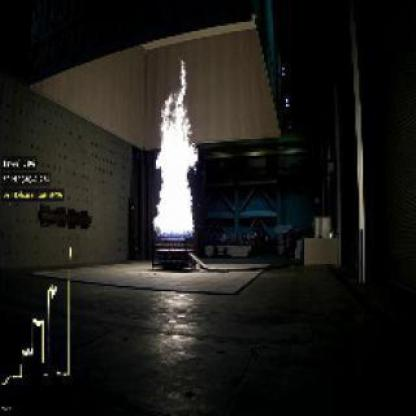Fire: (151, 62, 204, 247)
